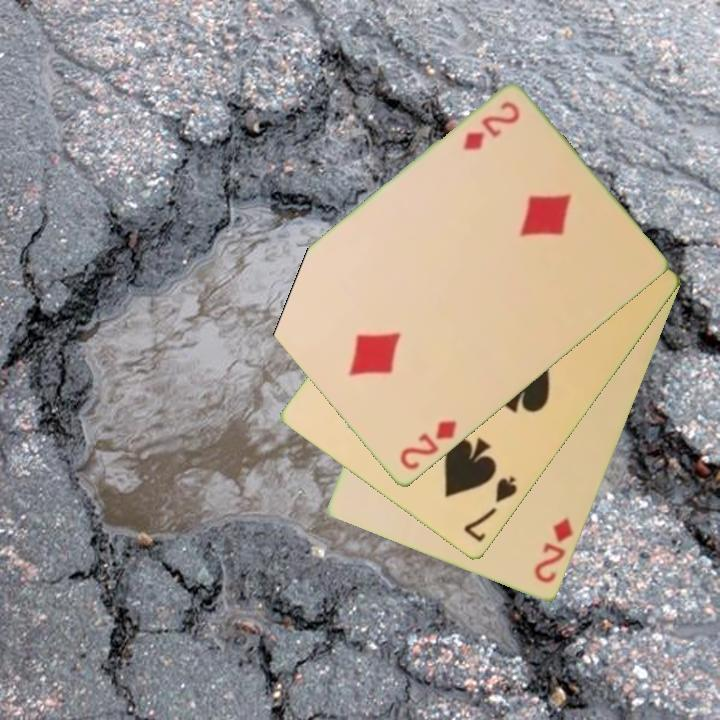2d: (396, 417, 460, 474), (459, 98, 523, 154), (530, 514, 577, 587)
7s: (460, 473, 521, 546)
